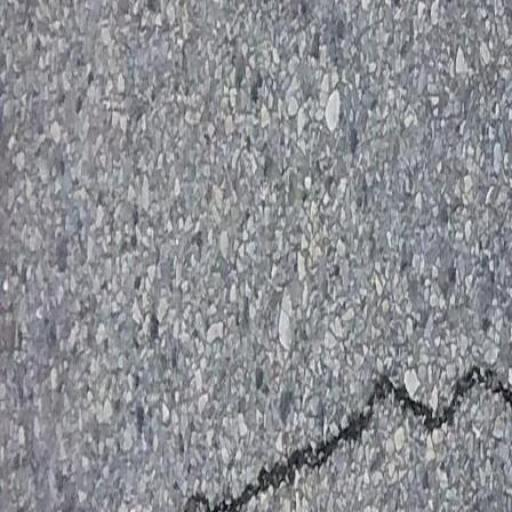spalling: (166, 346, 512, 510)
